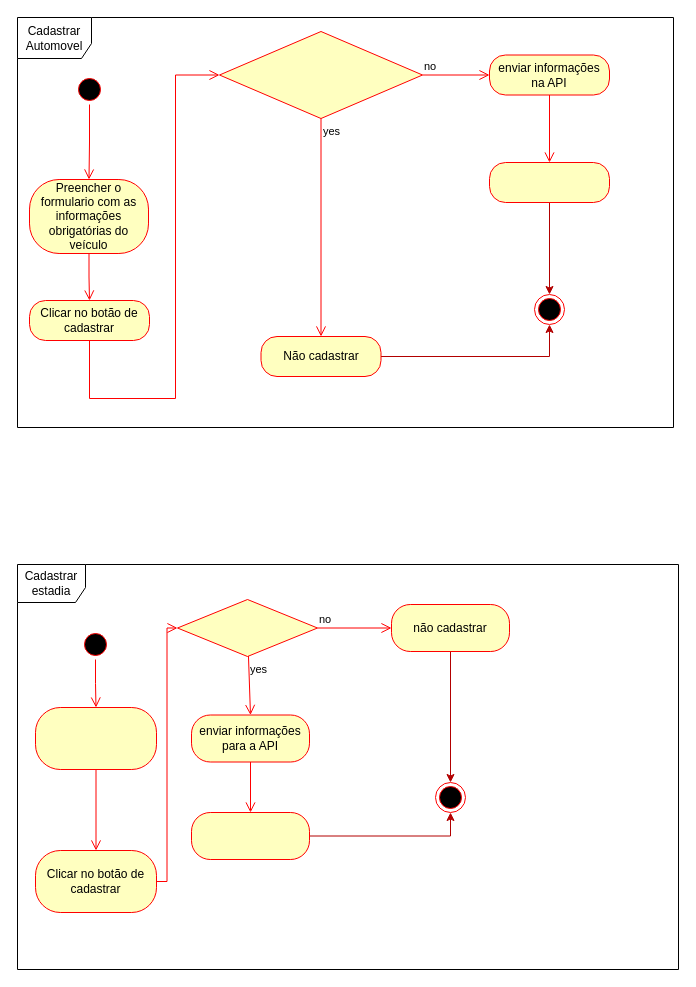
Some shapes in this 696 by 987 pixel diagram are drawn without their labels. Each missing label, with the centre of its shape:
"exibir estadia na tabela" belongs at (x=250, y=836).
"exibir veículo na tabela de automoveis" belongs at (x=549, y=182).
"Preencher informações obrigatórias do formulário" belongs at (x=95, y=738).
"verificar se a placa existe" belongs at (x=247, y=627).
"Verificar se o veículo já esta cadastrado" belongs at (x=320, y=74).
